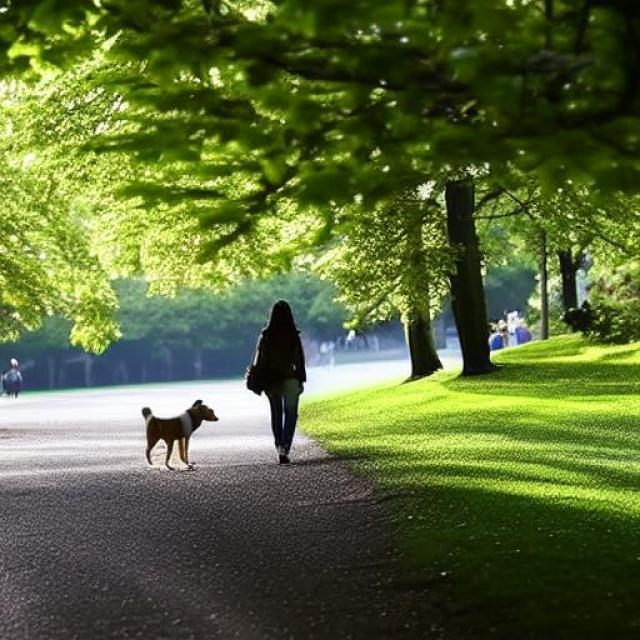Unleashed_Dog: (140, 378, 300, 471)
